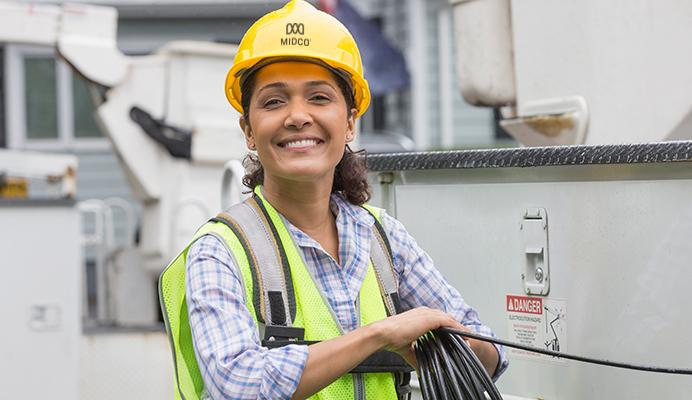helmet: (228, 1, 373, 112)
